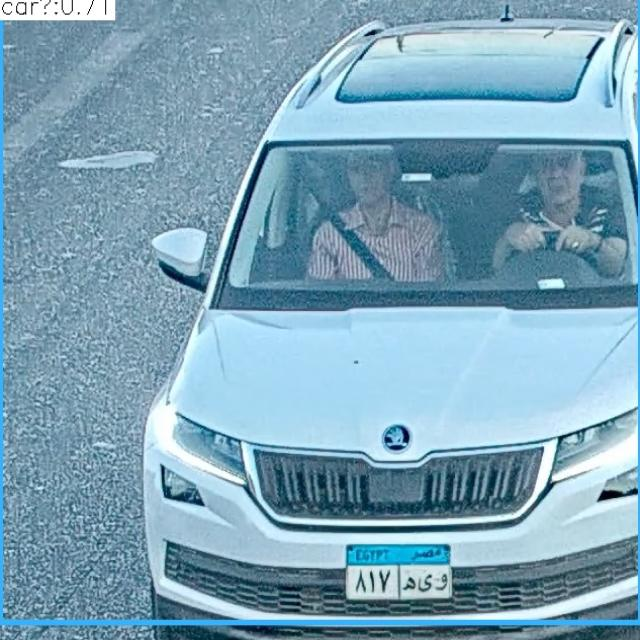windshield: (218, 144, 637, 309)
